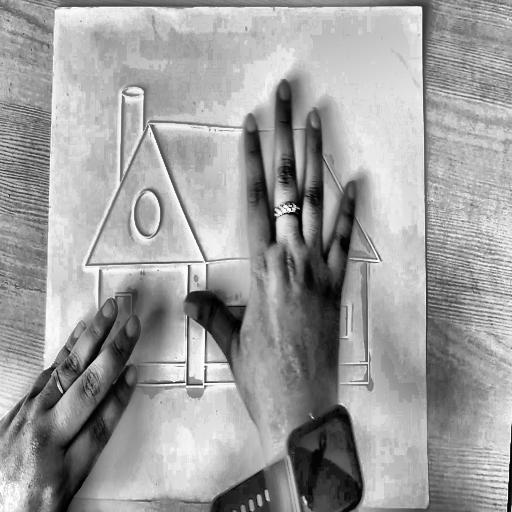bottom_left: (40, 491, 46, 501)
bottom_right: (425, 501, 431, 511)
house: (74, 78, 388, 401)
top_left: (52, 3, 59, 16)
top_right: (418, 0, 426, 15)
